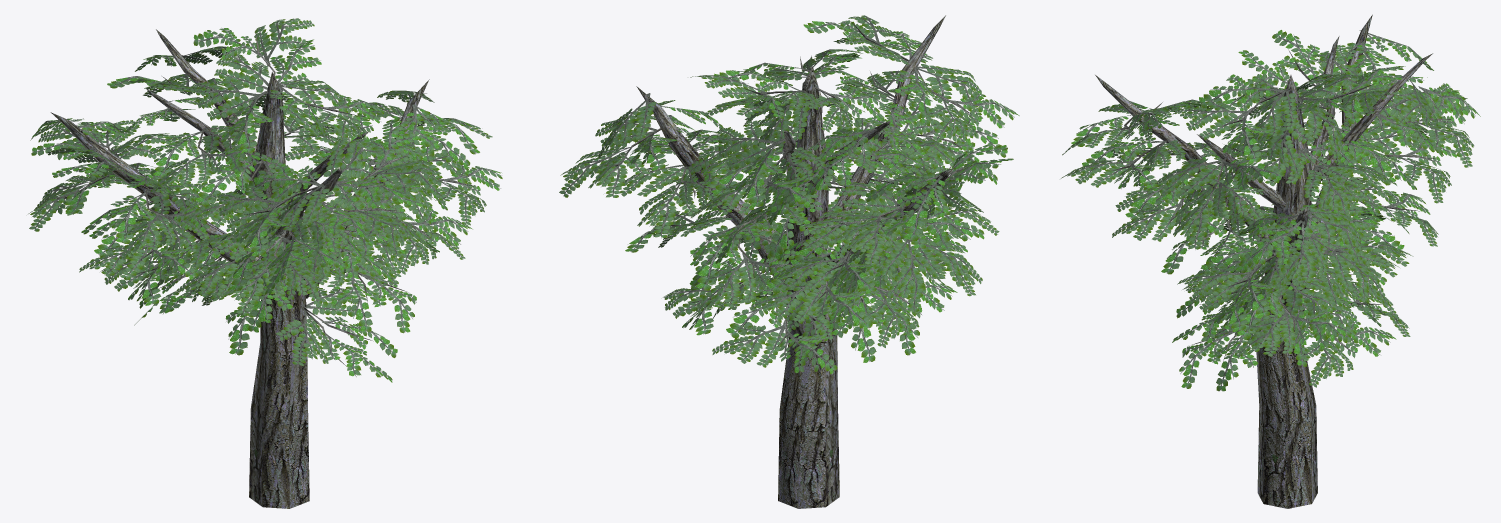
The model's file is Tree_01_02.obj.
3 views of the same model, side by side, from view 1: azimuth 30°, elevation 25°; view 2: azimuth 150°, elevation 25°; view 3: azimuth 270°, elevation 25° (orthographic). The views are drawn at different scales.
Parts seen in each view (by area): view 1: polySurface991; view 2: polySurface991; view 3: polySurface991.
Part boxes in pixels (left/top/right/bottom): polySurface991: left=28, top=18, right=502, bottom=508; polySurface991: left=559, top=15, right=1019, bottom=508; polySurface991: left=1061, top=14, right=1480, bottom=508.
Size of the model in its own units: 169 by 162 by 149.
